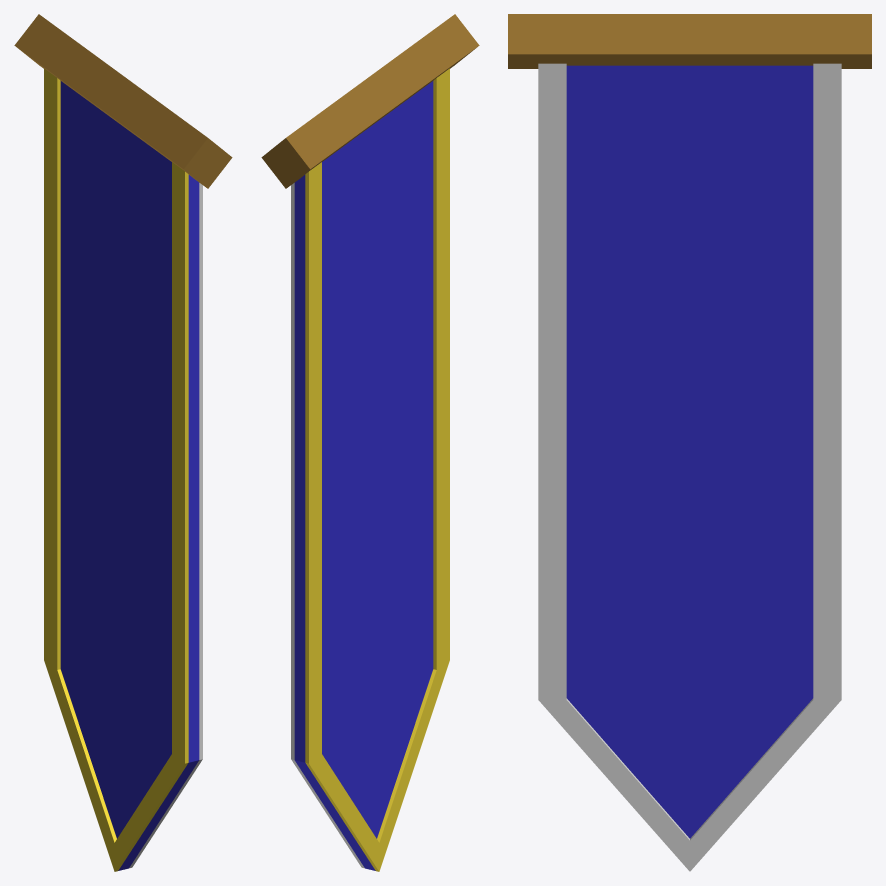
File: Banner1.fbx
The picture shows the model from 3 angles, left to right: view 1: azimuth 30°, elevation 25°; view 2: azimuth 150°, elevation 25°; view 3: azimuth 270°, elevation 25°; orthographic projection. The views are drawn at different scales.
Visible parts, largest first — view 1: Cube, Cube.004, Cylinder, Cube.011; view 2: Cube, Cube.004, Cylinder, Cube.011; view 3: Cube, Cube.011, Cylinder.
Boxes of the visible parts, box(x1,y1,x2,y2) form: Cube: box(60, 81, 199, 870); Cube.004: box(44, 68, 188, 871); Cylinder: box(14, 14, 232, 188); Cube.011: box(129, 183, 202, 868); Cube: box(294, 81, 433, 870); Cube.004: box(305, 68, 449, 871); Cylinder: box(261, 14, 479, 188); Cube.011: box(291, 183, 364, 868); Cube: box(566, 65, 813, 838); Cube.011: box(538, 63, 841, 871); Cylinder: box(508, 14, 871, 68).
Size of the model in its own units: 20 by 311 by 120.
